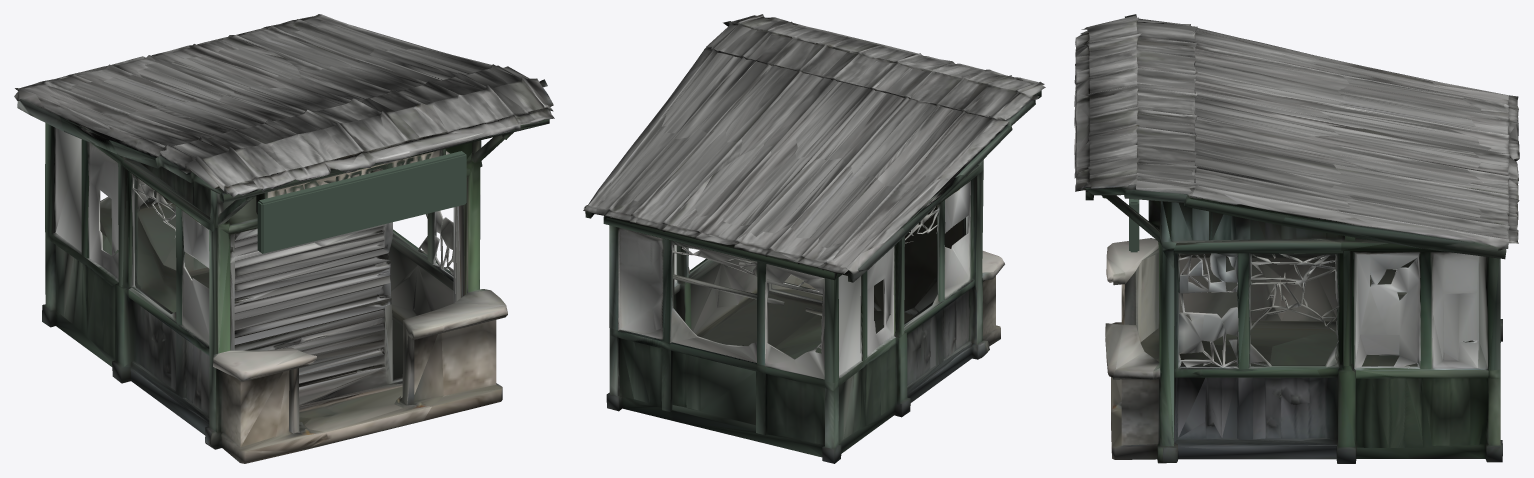
Rendered from wrecked_kiosk_LOD1.fbx.
The picture shows the model from 3 angles, left to right: view 1: azimuth 30°, elevation 25°; view 2: azimuth 150°, elevation 25°; view 3: azimuth 270°, elevation 25°; orthographic projection. The views are drawn at different scales.
Visible parts, largest first — view 1: wrecked_kiosk.001, KioskFasciaPlate.001; view 2: wrecked_kiosk.001; view 3: wrecked_kiosk.001, KioskFasciaPlate.001.
Part boxes in pixels (x1,y1,x2,y2): wrecked_kiosk.001: (14,14,554,463); KioskFasciaPlate.001: (257,151,466,253); wrecked_kiosk.001: (583,14,1045,463); wrecked_kiosk.001: (1074,14,1519,463); KioskFasciaPlate.001: (1129,199,1139,252).
Bounding box in the file's own units: 3.3 × 2.65 × 3.52.
Materials: 2 (1 with a texture image).
